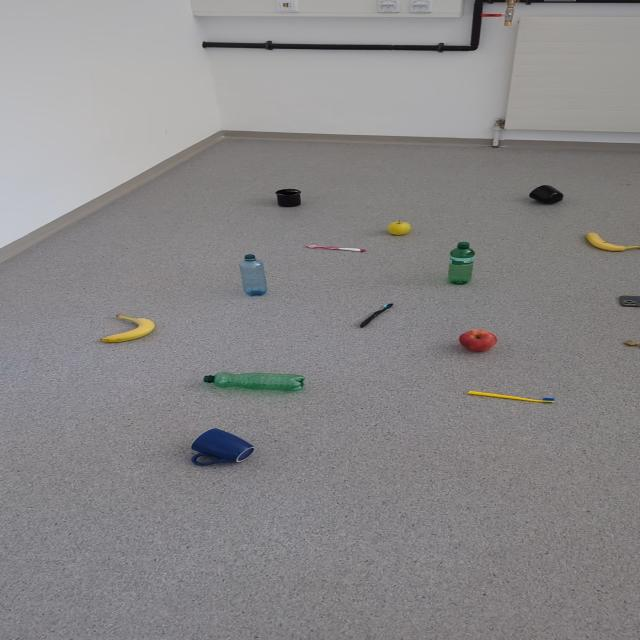apple: (458, 329, 497, 352), (387, 220, 411, 236)
banana: (100, 314, 155, 344), (585, 232, 639, 252)
bottle: (202, 372, 305, 392), (446, 241, 474, 285), (239, 253, 267, 296)
mug: (190, 428, 254, 466), (526, 183, 566, 205), (275, 188, 301, 207)
phone: (619, 294, 640, 309)
toothbrush: (465, 391, 555, 403), (358, 303, 394, 328), (305, 245, 366, 252)
